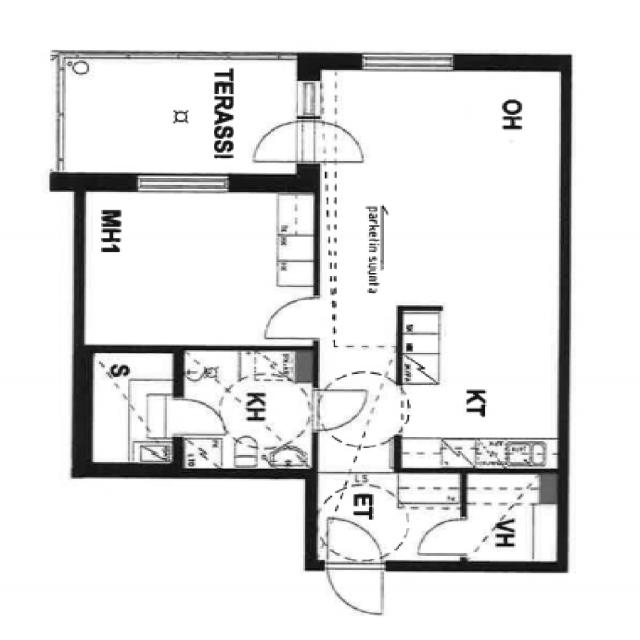door: (320, 513, 392, 619), (253, 290, 328, 346), (307, 379, 371, 443), (302, 114, 373, 164), (246, 117, 314, 165), (412, 512, 474, 561), (166, 394, 226, 441)
window: (353, 47, 463, 78), (126, 170, 236, 198), (288, 75, 328, 120)
zone: (328, 75, 572, 325), (79, 185, 319, 349), (397, 308, 562, 470), (176, 348, 318, 471), (84, 350, 179, 468), (460, 470, 564, 568), (411, 482, 523, 566)
